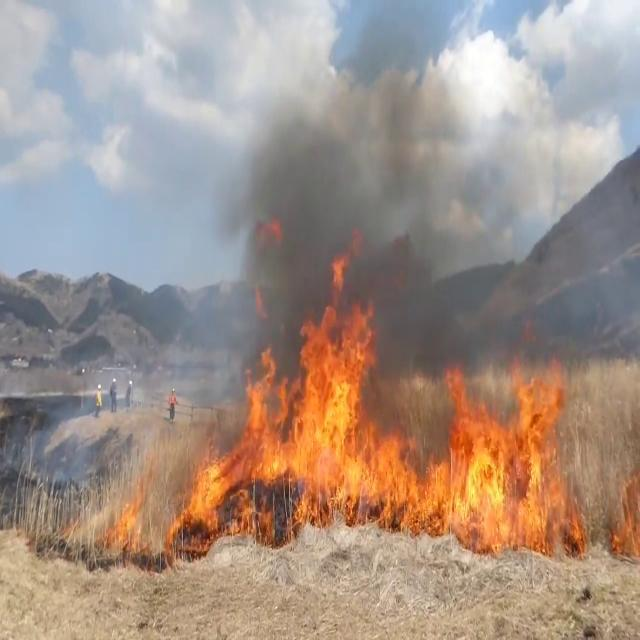Fire: (174, 274, 586, 544), (610, 451, 640, 565)
Smoke: (192, 28, 436, 362)
